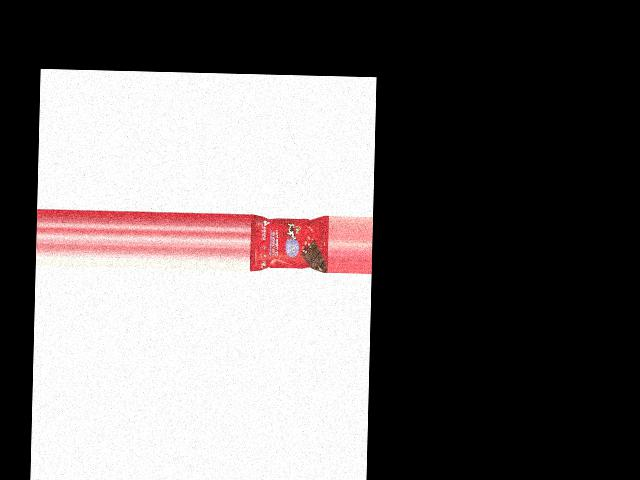chocolate: (249, 216, 328, 273)
